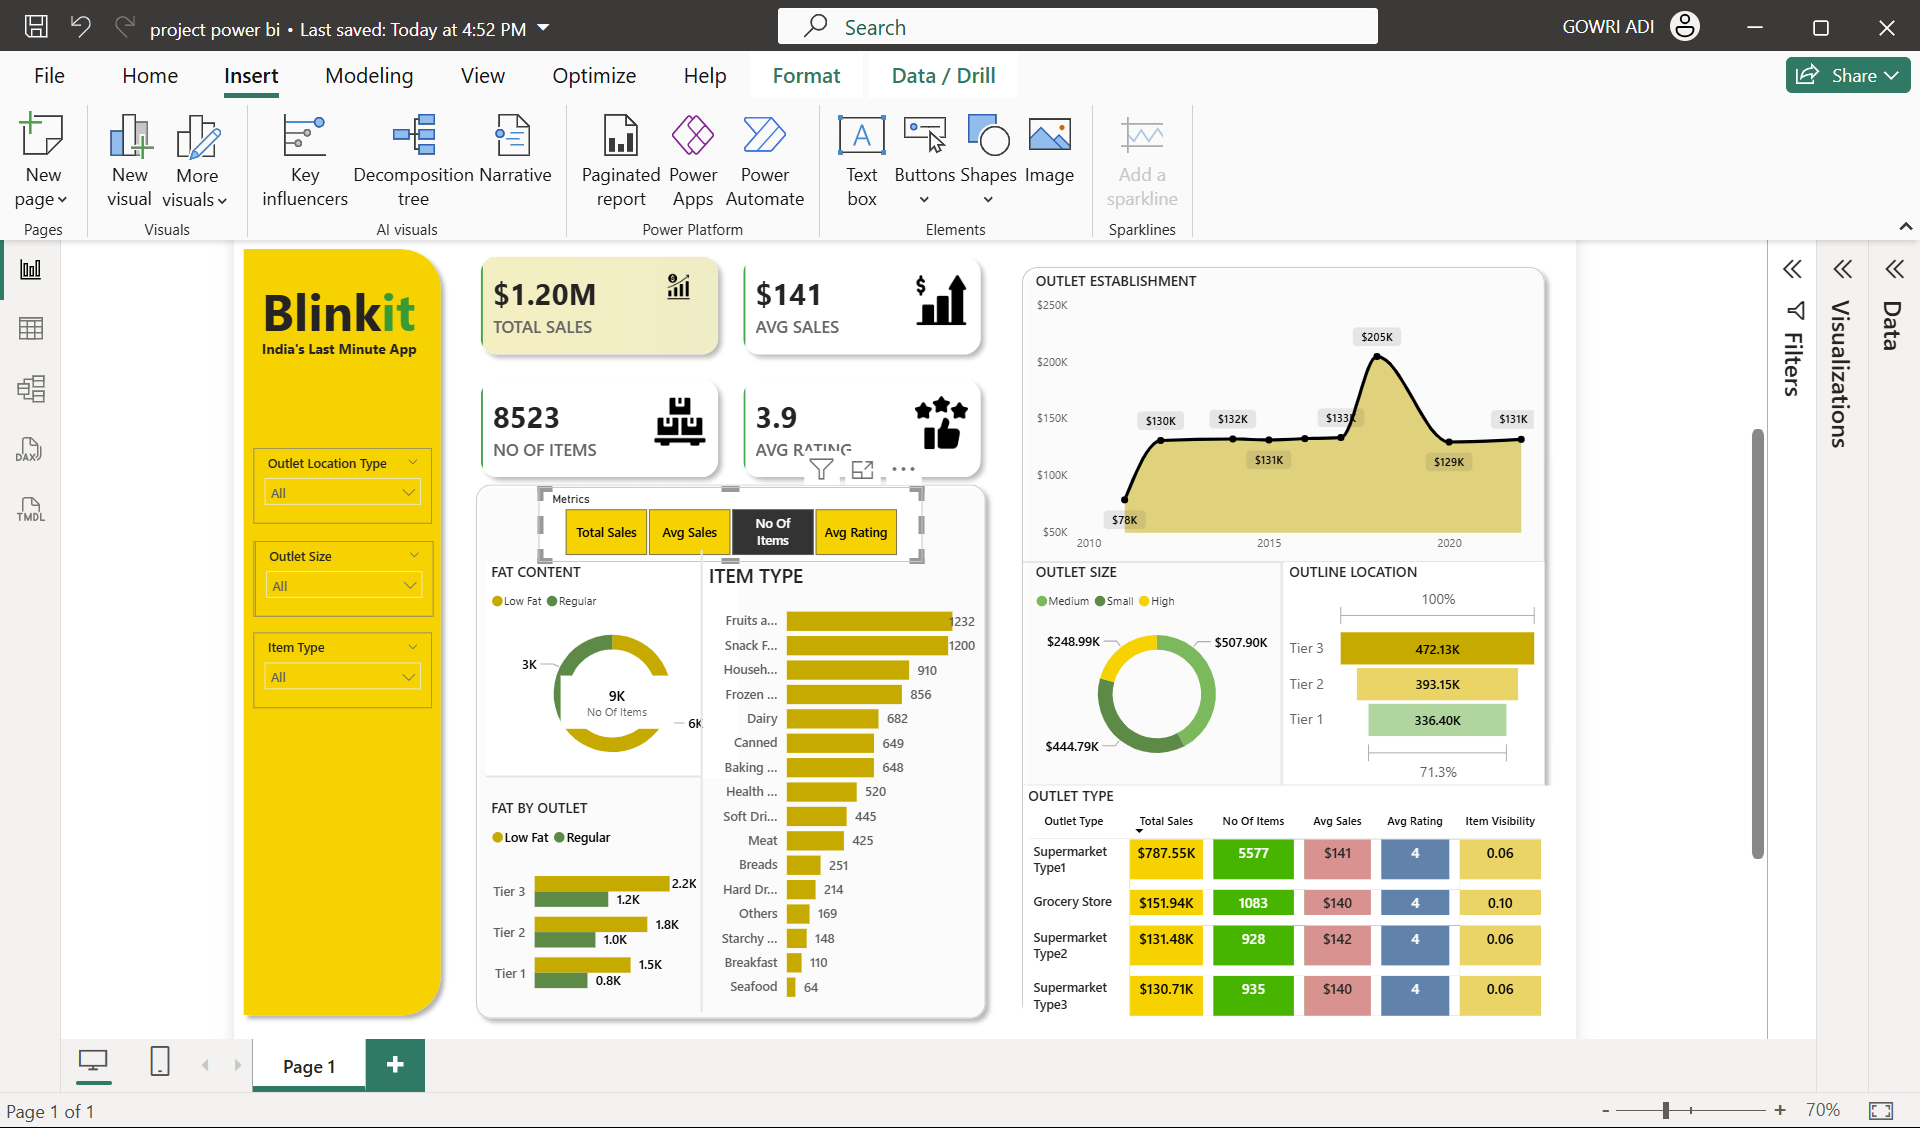

The page's visual inventory and layout, read from the dashboard file:
{"tool":"powerbi","page":{"name":"Page 1","canvas":[1278,1400],"ordinal":0},"visuals":[{"type":"shape","box":[0,322,206,748],"z":0},{"type":"textbox","box":[22,352,166,82],"z":1000},{"type":"textbox","box":[22,410,170,46],"z":2000},{"type":"cardVisual","fields":{"Data":["BlinkIT Grocery Data.Total Sales","BlinkIT Grocery Data.Avg Sales","BlinkIT Grocery Data.No Of Items","BlinkIT Grocery Data.Avg Rating"]},"box":[205,308.3,535,268.3],"z":3000},{"type":"shape","box":[221.7,545,503.3,526.7],"z":4000},{"type":"donutChart","title":"FAT CONTENT","fields":{"Y":["BlinkIT Grocery Data.Avg Rating"],"Category":["BlinkIT Grocery Data.Item Fat Content"]},"box":[240,628.3,240,205],"z":5000},{"type":"slicer","fields":{"Values":["Metrics.Metrics"]},"box":[290,556.7,365,71.7],"z":6000},{"type":"cardVisual","fields":{"Data":["BlinkIT Grocery Data.Avg Rating"]},"box":[305,731.7,118.3,61.7],"z":7000},{"type":"clusteredBarChart","title":"FAT BY OUTLET","fields":{"Y":["BlinkIT Grocery Data.Avg Rating"],"Category":["BlinkIT Grocery Data.Outlet Location Type"],"Series":["BlinkIT Grocery Data.Item Fat Content"]},"box":[240,853.3,205,203.3],"z":8000},{"type":"shape","box":[240,813.3,205,40],"z":9000},{"type":"shape","box":[343.3,616.7,205,440],"z":10000},{"type":"barChart","title":"ITEM TYPE","fields":{"Y":["BlinkIT Grocery Data.Avg Rating"],"Category":["BlinkIT Grocery Data.Item Type"]},"box":[446.7,628.3,263.3,428.3],"z":11000},{"type":"shape","box":[742,338,516,734],"z":12000},{"type":"lineChart","title":"OUTLET ESTABLISHMENT","fields":{"Y":["BlinkIT Grocery Data.Total Sales"],"Category":["BlinkIT Grocery Data.Outlet Establishment Year"]},"box":[758,352,484,276],"z":13000},{"type":"shape","box":[752,608,496,40],"z":14000},{"type":"donutChart","title":"OUTLET SIZE","fields":{"Y":["BlinkIT Grocery Data.Total Sales"],"Category":["BlinkIT Grocery Data.Outlet Size"]},"box":[758,628,240,206],"z":15000},{"type":"shape","box":[896,628,204,214],"z":16000},{"type":"funnel","title":"OUTLINE LOCATION","fields":{"Y":["Sum(BlinkIT Grocery Data.Sales)"],"Category":["BlinkIT Grocery Data.Outlet Location Type"]},"box":[1000,628,248,214],"z":17000},{"type":"shape","box":[752,822,496,40],"z":18000},{"type":"pivotTable","title":"OUTLET TYPE","fields":{"Rows":["BlinkIT Grocery Data.Outlet Type"],"Values":["BlinkIT Grocery Data.Total Sales","BlinkIT Grocery Data.No Of Items","BlinkIT Grocery Data.Avg Sales","BlinkIT Grocery Data.Avg Rating","Avg(BlinkIT Grocery Data.Item Visibility)"]},"box":[752,842,506,230],"z":19000},{"type":"slicer","fields":{"Values":["BlinkIT Grocery Data.Outlet Location Type"]},"box":[18,520,170,72],"z":20000},{"type":"slicer","fields":{"Values":["BlinkIT Grocery Data.Outlet Size"]},"box":[18,608,170,72],"z":21000},{"type":"slicer","fields":{"Values":["BlinkIT Grocery Data.Item Type"]},"box":[18,696,170,72],"z":22000},{"type":"slicer","fields":{"Values":["BlinkIT Grocery Data.Outlet Size"]},"box":[20,608,170,72],"z":23000},{"type":"textbox","box":[0,146,206,72],"z":24000}]}

Visuals, with their boxes on the page's 1278x1400 design canvas (x1, y1, x2, y2). These are canvas units, not pixel positions in the 1920x1128 screenshot, which may show the page scaled, cropped or inside an application window:
shape: [0, 322, 206, 1070]
textbox: [22, 352, 188, 434]
textbox: [22, 410, 192, 456]
cardVisual - BlinkIT Grocery Data.Total Sales x BlinkIT Grocery Data.Avg Sales: [205, 308, 740, 577]
shape: [222, 545, 725, 1072]
"FAT CONTENT" donutChart: [240, 628, 480, 833]
slicer - Metrics.Metrics: [290, 557, 655, 628]
cardVisual - BlinkIT Grocery Data.Avg Rating: [305, 732, 423, 793]
"FAT BY OUTLET" clusteredBarChart: [240, 853, 445, 1057]
shape: [240, 813, 445, 853]
shape: [343, 617, 548, 1057]
"ITEM TYPE" barChart: [447, 628, 710, 1057]
shape: [742, 338, 1258, 1072]
"OUTLET ESTABLISHMENT" lineChart: [758, 352, 1242, 628]
shape: [752, 608, 1248, 648]
"OUTLET SIZE" donutChart: [758, 628, 998, 834]
shape: [896, 628, 1100, 842]
"OUTLINE LOCATION" funnel: [1000, 628, 1248, 842]
shape: [752, 822, 1248, 862]
"OUTLET TYPE" pivotTable: [752, 842, 1258, 1072]
slicer - BlinkIT Grocery Data.Outlet Location Type: [18, 520, 188, 592]
slicer - BlinkIT Grocery Data.Outlet Size: [18, 608, 188, 680]
slicer - BlinkIT Grocery Data.Item Type: [18, 696, 188, 768]
slicer - BlinkIT Grocery Data.Outlet Size: [20, 608, 190, 680]
textbox: [0, 146, 206, 218]
